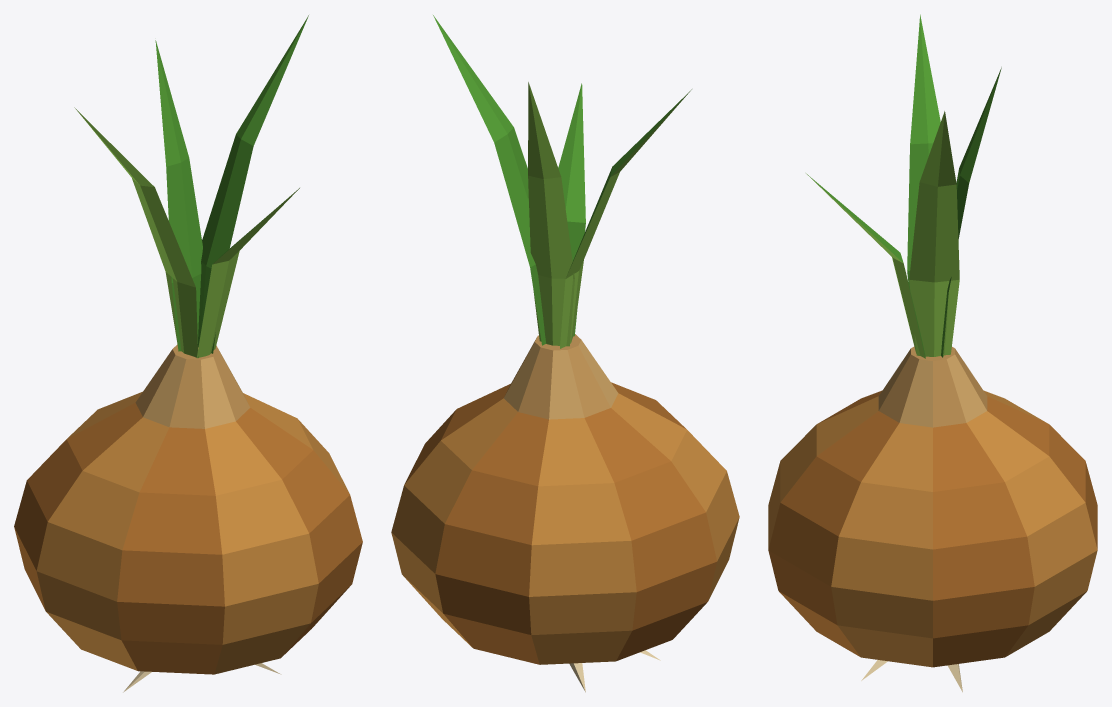
File: FMS_Veg_Onion.fbx
3 renders of one model, left to right at view 1: azimuth 30°, elevation 25°; view 2: azimuth 150°, elevation 25°; view 3: azimuth 270°, elevation 25°, orthographic.
Parts seen in each view (by area): view 1: item_produce_onion; view 2: item_produce_onion; view 3: item_produce_onion.
Boxes of the visible parts, x1=… form: item_produce_onion: x1=14, y1=15, x2=362, y2=692; item_produce_onion: x1=391, y1=15, x2=739, y2=692; item_produce_onion: x1=768, y1=14, x2=1097, y2=692.
Size of the model in its own units: 0.082 by 0.158 by 0.078.
1 material, 1 textured.
